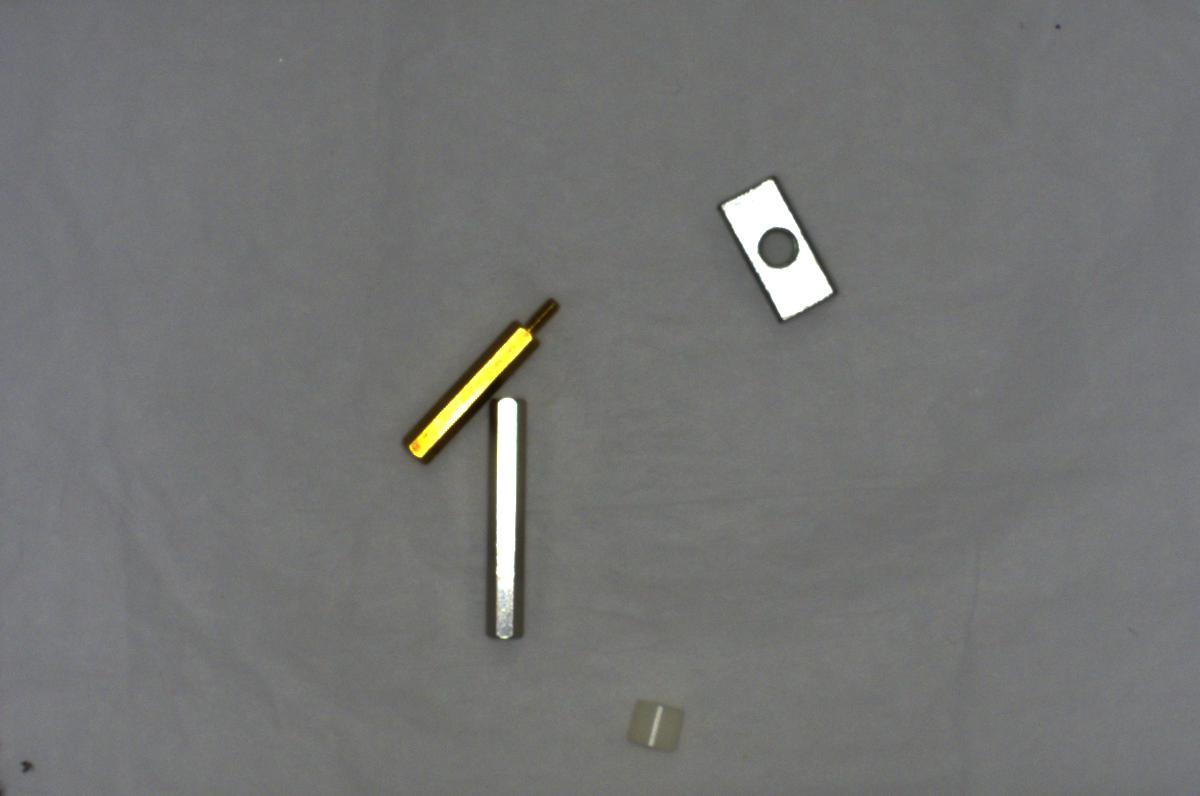Double hexagonal column: (480, 390, 531, 647)
Hexagon pillar: (392, 289, 561, 463)
Plastic cushion pillar: (621, 696, 695, 767)
Rectangular nut: (717, 169, 842, 326)
